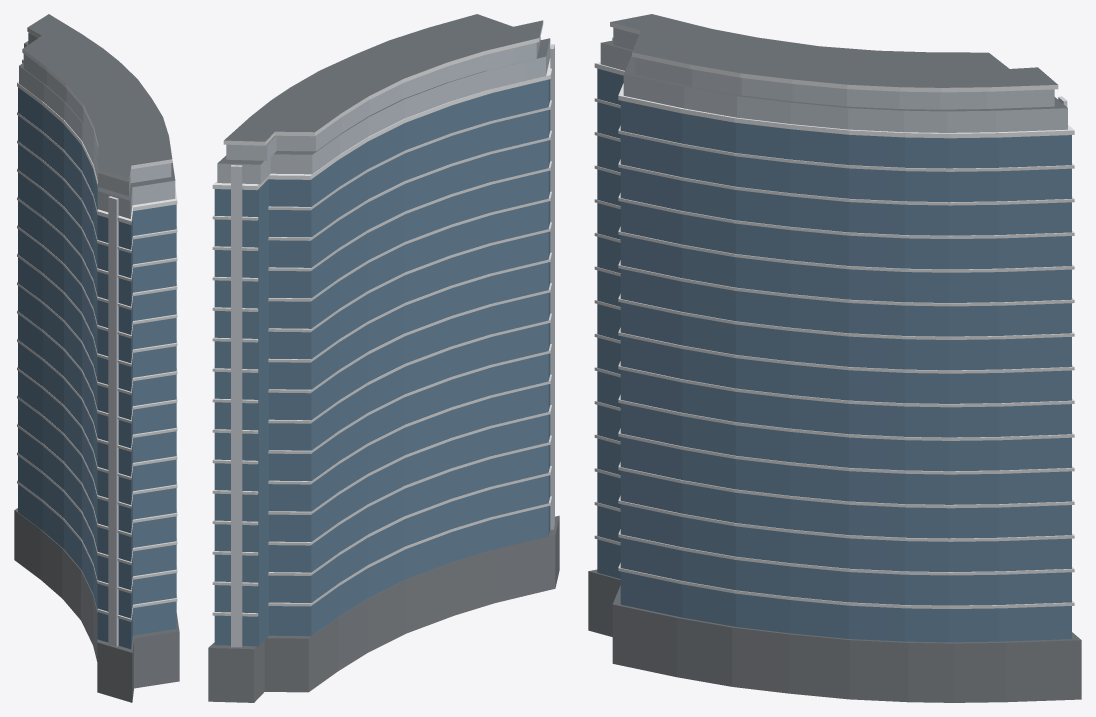
File: aria_west.glb
3 renders of one model, left to right at view 1: azimuth 30°, elevation 25°; view 2: azimuth 150°, elevation 25°; view 3: azimuth 270°, elevation 25°, orthographic. The views are drawn at different scales.
Visible parts, largest first — view 1: Tower; view 2: Tower; view 3: Tower.
Boxes of the visible parts, x1,y1,x2,y2 form: Tower: (14,14,179,702); Tower: (208,14,559,702); Tower: (588,14,1081,702).
Size of the model in its own units: 47.05 by 165 by 121.
